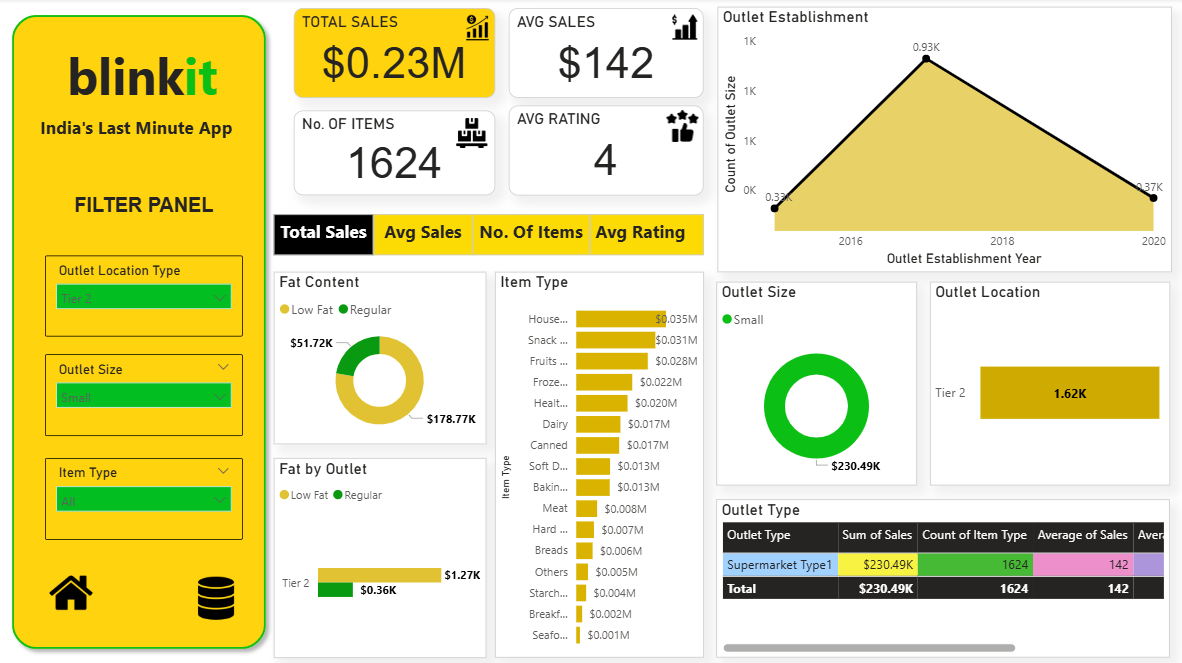

This screenshot's page, from the dashboard's own definition file:
{"tool":"powerbi","page":{"name":"Page 1","canvas":[1280,720],"ordinal":0},"visuals":[{"type":"shape","box":[9.6,9.6,290.9,699.8],"z":0},{"type":"slicer","fields":{"Values":["BlinkIT Grocery Data.Outlet Size"]},"box":[53.5,382.8,212.7,87.8],"z":1000},{"type":"slicer","fields":{"Values":["BlinkIT Grocery Data.Item Type"]},"box":[53.5,495.4,212.7,87.8],"z":2000},{"type":"textbox","box":[53.5,205.8,212.7,35.7],"z":3000},{"type":"card","title":"TOTAL SALES","fields":{"Values":["Sum(BlinkIT Grocery Data.Sales)"]},"box":[321.4,10.8,216.5,96.8],"z":4000},{"type":"card","title":"No. OF ITEMS","fields":{"Values":["CountNonNull(BlinkIT Grocery Data.Item Type)"]},"box":[321.4,121,216.5,91.4],"z":5000},{"type":"card","title":"AVG SALES","fields":{"Values":["Avg(BlinkIT Grocery Data.Sales)"]},"box":[552.7,10.8,209.8,96.8],"z":6000},{"type":"stackedAreaChart","title":"Outlet Establishment","fields":{"Category":["BlinkIT Grocery Data.Outlet Establishment Year"],"Y":["CountNonNull(BlinkIT Grocery Data.Outlet Size)"]},"box":[776.7,9.6,488.5,285.4],"z":7000},{"type":"donutChart","title":"Outlet Size","fields":{"Category":["BlinkIT Grocery Data.Outlet Size"],"Y":["Sum(BlinkIT Grocery Data.Sales)"]},"box":[776.1,305.7,216.4,219.1],"z":8000},{"type":"funnel","title":"Outlet Location","fields":{"Category":["BlinkIT Grocery Data.Outlet Location Type"],"Y":["CountNonNull(BlinkIT Grocery Data.Item Type)"]},"box":[1006.4,305.7,258.2,219.1],"z":9000},{"type":"donutChart","title":"Fat Content","fields":{"Y":["Sum(BlinkIT Grocery Data.Sales)"],"Category":["BlinkIT Grocery Data.Item Fat Content"]},"box":[299.9,294.5,228.6,185.6],"z":10000},{"type":"textbox","box":[53,41.9,212.2,89.3],"z":11000},{"type":"textbox","box":[39.1,121.4,226.1,68.4],"z":12000},{"type":"clusteredBarChart","title":"Fat by Outlet ","fields":{"Category":["BlinkIT Grocery Data.Outlet Location Type"],"Y":["CountNonNull(BlinkIT Grocery Data.Item Fat Content)"],"Series":["BlinkIT Grocery Data.Item Fat Content"]},"box":[299.9,494.9,228.6,215.2],"z":13000},{"type":"slicer","fields":{"Values":["BlinkIT Grocery Data.Outlet Location Type"]},"box":[53.8,277,212.5,87.4],"z":14000},{"type":"image","box":[53.8,603.8,56.5,72.6],"z":15000},{"type":"image","box":[209.8,614.6,56.5,61.9],"z":16000},{"type":"image","box":[500.3,10.8,37.7,43],"z":17000},{"type":"image","box":[488.2,123.7,49.8,43],"z":18000},{"type":"image","box":[722.2,12.1,40.3,39],"z":19000},{"type":"card","title":"AVG RATING","fields":{"Values":["Avg(BlinkIT Grocery Data.Rating)"]},"box":[552.7,115.7,209.8,96.8],"z":20000},{"type":"image","box":[716.8,115.7,45.7,44.4],"z":21000},{"type":"clusteredBarChart","title":"Item Type","fields":{"Category":["BlinkIT Grocery Data.Item Type"],"Y":["Sum(BlinkIT Grocery Data.Sales)"]},"box":[537.9,294.5,224.6,415.6],"z":22000},{"type":"tableEx","title":"Outlet Type","fields":{"Values":["BlinkIT Grocery Data.Outlet Type","Sum(BlinkIT Grocery Data.Sales)","BlinkIT Grocery Data.Item Type","Avg(BlinkIT Grocery Data.Sales)","Avg(BlinkIT Grocery Data.Rating)","Avg(BlinkIT Grocery Data.Item Visibility)"]},"box":[776,539.3,488.2,170.8],"z":23000},{"type":"actionButton","box":[0,0,100,40],"z":24000},{"type":"textbox","box":[299.9,232.7,107.6,44.4],"z":25000},{"type":"textbox","box":[407.5,232.7,106.2,44.4],"z":26000},{"type":"textbox","box":[513.7,232.7,126.4,44.4],"z":27000},{"type":"textbox","box":[640.1,232.7,122.4,44.4],"z":28000}]}

Visuals, with their boxes in screenshot pixels (x1, y1, x2, y2), scaled from the page's 1280x720 canvas onto the 1182x663 screenshot:
shape: pyautogui.locateOnScreen(9, 9, 277, 653)
slicer - BlinkIT Grocery Data.Outlet Size: pyautogui.locateOnScreen(49, 352, 246, 433)
slicer - BlinkIT Grocery Data.Item Type: pyautogui.locateOnScreen(49, 456, 246, 537)
textbox: pyautogui.locateOnScreen(49, 190, 246, 222)
"TOTAL SALES" card: pyautogui.locateOnScreen(297, 10, 497, 99)
"No. OF ITEMS" card: pyautogui.locateOnScreen(297, 111, 497, 196)
"AVG SALES" card: pyautogui.locateOnScreen(510, 10, 704, 99)
"Outlet Establishment" stackedAreaChart: pyautogui.locateOnScreen(717, 9, 1168, 272)
"Outlet Size" donutChart: pyautogui.locateOnScreen(717, 281, 917, 483)
"Outlet Location" funnel: pyautogui.locateOnScreen(929, 281, 1168, 483)
"Fat Content" donutChart: pyautogui.locateOnScreen(277, 271, 488, 442)
textbox: pyautogui.locateOnScreen(49, 39, 245, 121)
textbox: pyautogui.locateOnScreen(36, 112, 245, 175)
"Fat by Outlet " clusteredBarChart: pyautogui.locateOnScreen(277, 456, 488, 654)
slicer - BlinkIT Grocery Data.Outlet Location Type: pyautogui.locateOnScreen(50, 255, 246, 336)
image: pyautogui.locateOnScreen(50, 556, 102, 623)
image: pyautogui.locateOnScreen(194, 566, 246, 623)
image: pyautogui.locateOnScreen(462, 10, 497, 50)
image: pyautogui.locateOnScreen(451, 114, 497, 154)
image: pyautogui.locateOnScreen(667, 11, 704, 47)
"AVG RATING" card: pyautogui.locateOnScreen(510, 107, 704, 196)
image: pyautogui.locateOnScreen(662, 107, 704, 147)
"Item Type" clusteredBarChart: pyautogui.locateOnScreen(497, 271, 704, 654)
"Outlet Type" tableEx: pyautogui.locateOnScreen(717, 497, 1167, 654)
actionButton: pyautogui.locateOnScreen(0, 0, 92, 37)
textbox: pyautogui.locateOnScreen(277, 214, 376, 255)
textbox: pyautogui.locateOnScreen(376, 214, 474, 255)
textbox: pyautogui.locateOnScreen(474, 214, 591, 255)
textbox: pyautogui.locateOnScreen(591, 214, 704, 255)
